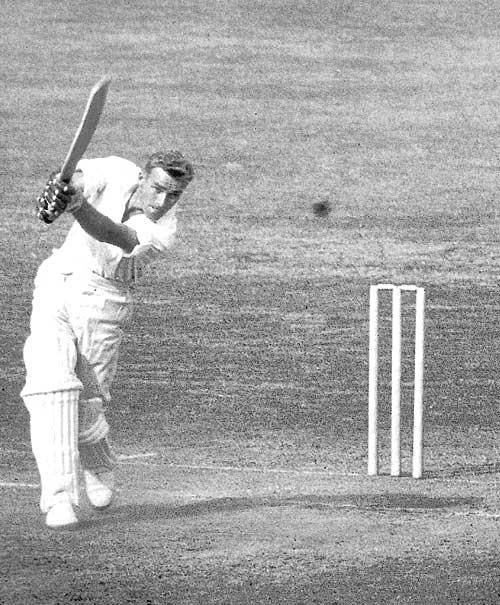batsman: (19, 61, 196, 546)
